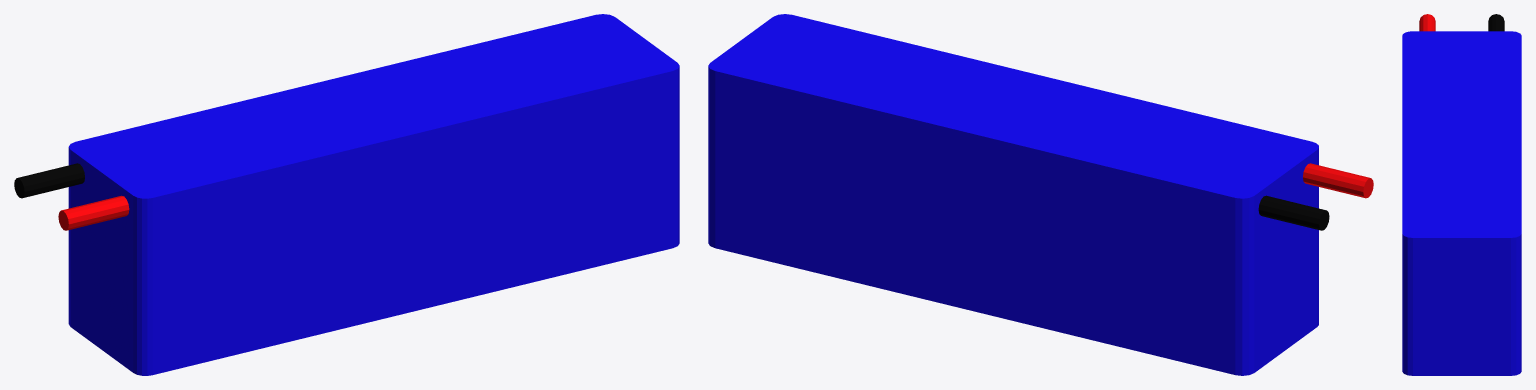
Rendered from ZIPPY-3000-25C-6S.dae.
3 renders of one model, left to right at view 1: azimuth 30°, elevation 25°; view 2: azimuth 150°, elevation 25°; view 3: azimuth 270°, elevation 25°, orthographic. The views are drawn at different scales.
Parts seen in each view (by area): view 1: ZIPPY-3000-25C-6S; view 2: ZIPPY-3000-25C-6S; view 3: ZIPPY-3000-25C-6S.
Boxes of the visible parts, x1,y1,x2,y2 form: ZIPPY-3000-25C-6S: [14, 14, 679, 375]; ZIPPY-3000-25C-6S: [708, 14, 1373, 375]; ZIPPY-3000-25C-6S: [1402, 14, 1521, 375].
Bounding box in the file's own units: 0.15 × 0.033 × 0.042.
